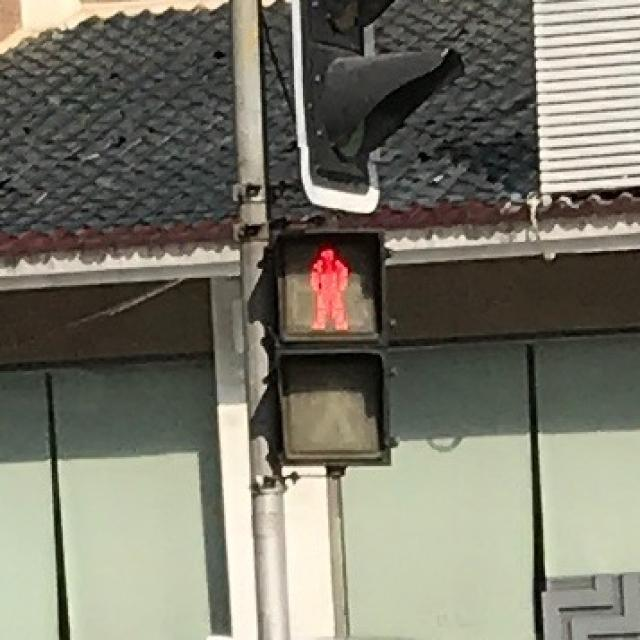red-crossing: (284, 235, 369, 330)
